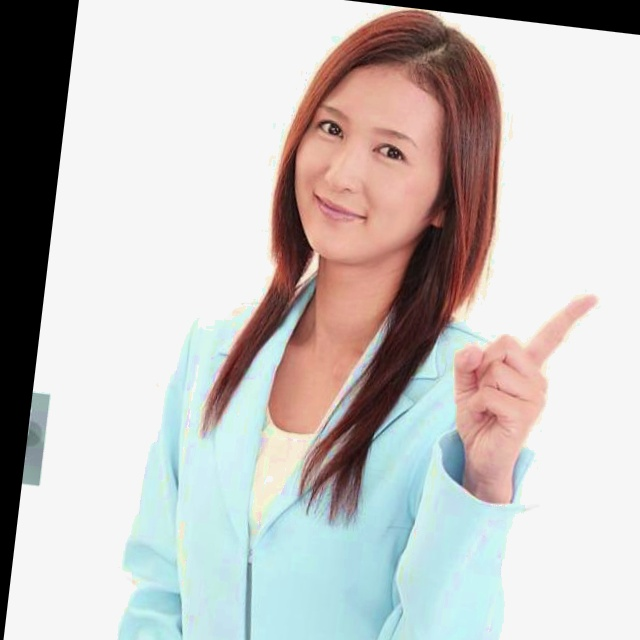Sin_Casco_Mascarrilla: (265, 0, 515, 283)
Sin_Chaleco: (122, 265, 521, 640)
